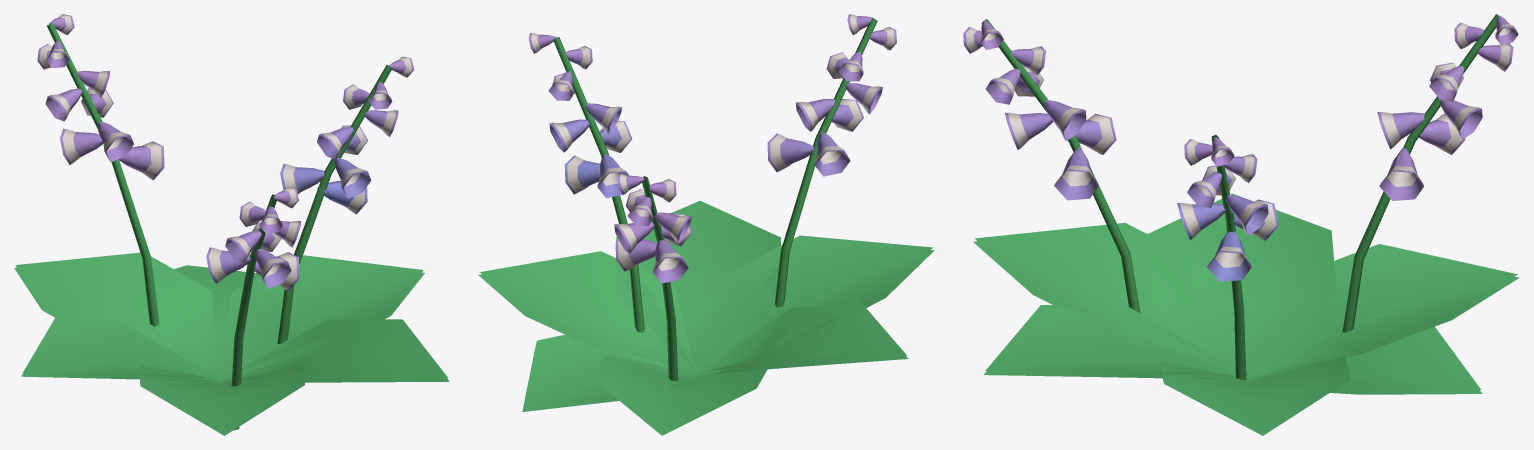
Rendered from ing_wild_hyacinth.gltf.
3 renders of one model, left to right at view 1: azimuth 30°, elevation 25°; view 2: azimuth 150°, elevation 25°; view 3: azimuth 270°, elevation 25°, orthographic. The views are drawn at different scales.
Visible parts, largest first — view 1: ing_wild_hyacinth; view 2: ing_wild_hyacinth; view 3: ing_wild_hyacinth.
Boxes of the visible parts, <box> form: ing_wild_hyacinth: <box>14,14,449,435</box>; ing_wild_hyacinth: <box>478,14,934,435</box>; ing_wild_hyacinth: <box>963,14,1519,435</box>.
Size of what is drawn, in the model's own units: 0.3654 by 0.2487 by 0.3726.
